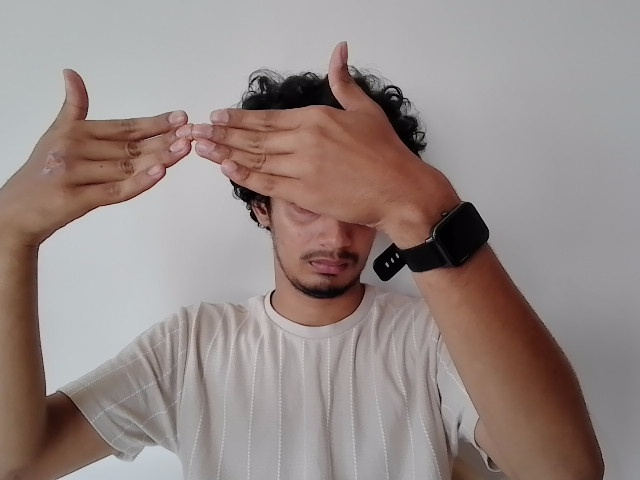family: (3, 41, 416, 232)
